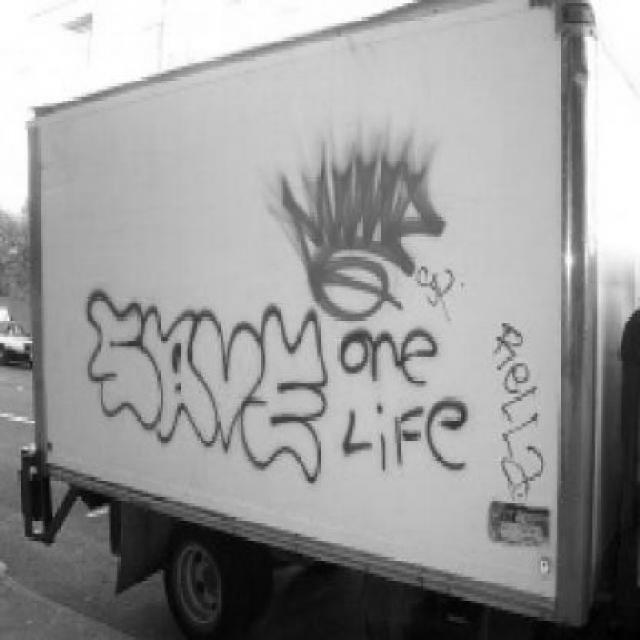Box Truck: (19, 0, 640, 640)
